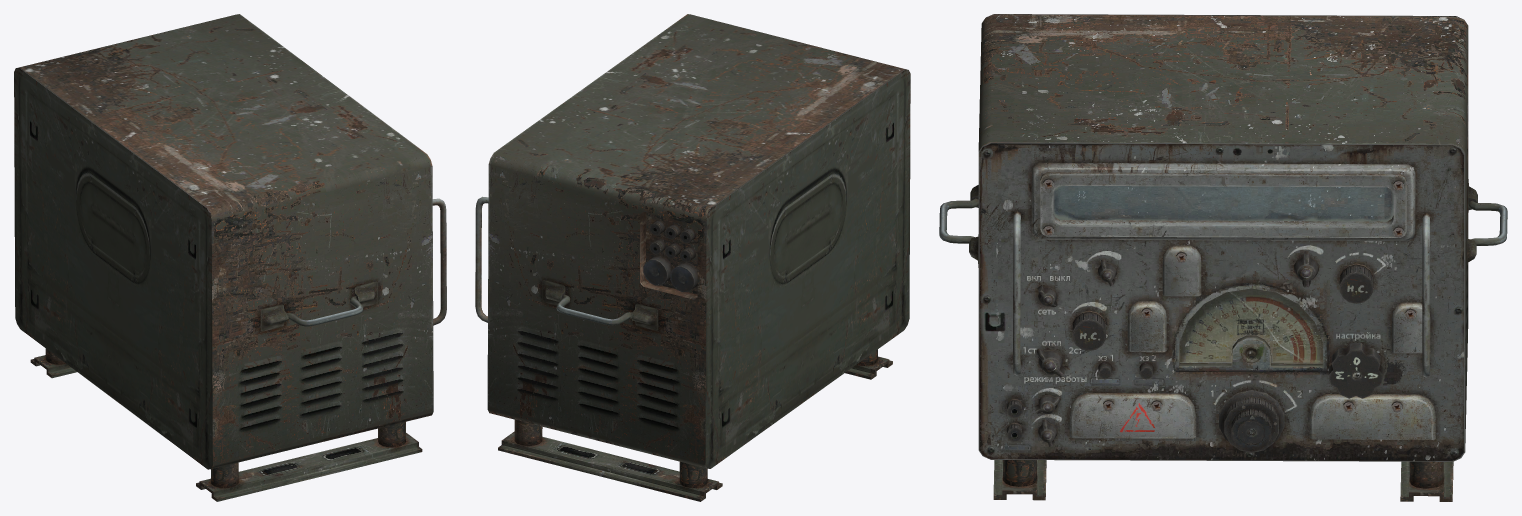
The model's file is BigRadio.fbx.
3 views of the same model, side by side, from view 1: azimuth 30°, elevation 25°; view 2: azimuth 150°, elevation 25°; view 3: azimuth 270°, elevation 25° (orthographic). The views are drawn at different scales.
Parts seen in each view (by area): view 1: mesh_0.074; view 2: mesh_0.074; view 3: mesh_0.074.
Part boxes in pixels (x1,y1,x2,y2): mesh_0.074: (14, 14, 446, 501); mesh_0.074: (475, 14, 910, 501); mesh_0.074: (939, 14, 1507, 501).
Bounding box in the file's own units: 0.6271 × 0.7083 × 1.01.
